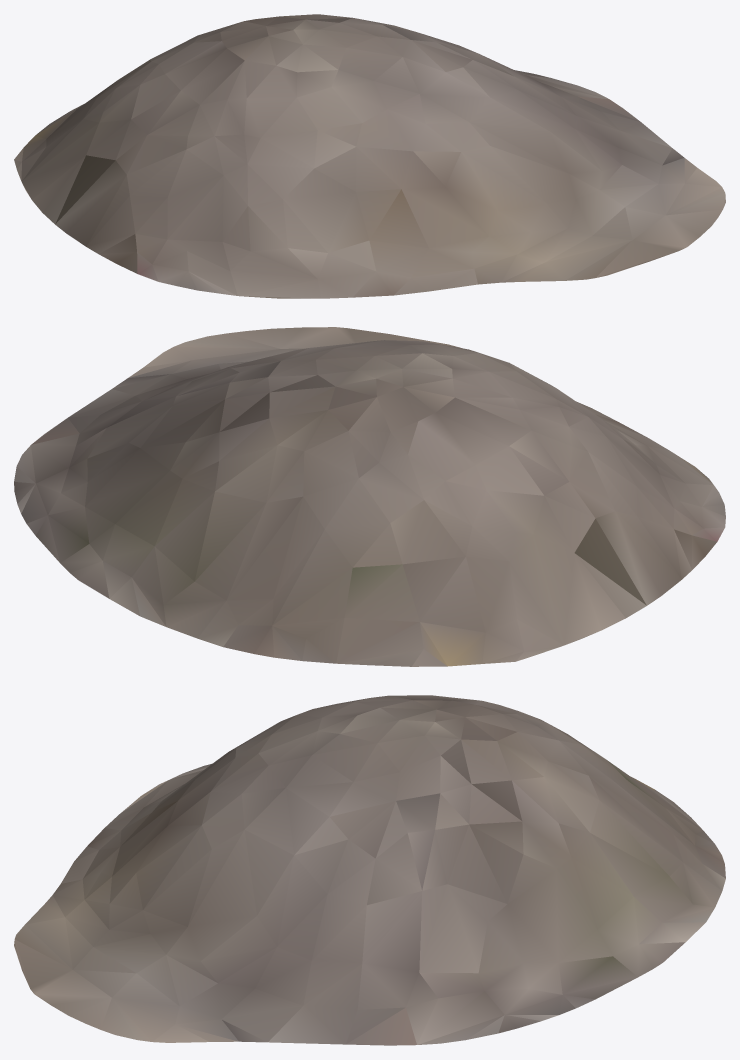
File: Dirt_Pile.fbx
The picture shows the model from 3 angles, top to bottom: view 1: azimuth 30°, elevation 25°; view 2: azimuth 150°, elevation 25°; view 3: azimuth 270°, elevation 25°; orthographic projection. The views are drawn at different scales.
Visible parts, largest first — view 1: Dirt_Pile; view 2: Dirt_Pile; view 3: Dirt_Pile.
Boxes of the visible parts, box(x1,y1,x2,y2) form: Dirt_Pile: box(14, 14, 725, 298); Dirt_Pile: box(14, 327, 725, 666); Dirt_Pile: box(14, 695, 725, 1045).
Bounding box in the file's own units: 169 × 41.18 × 171.
